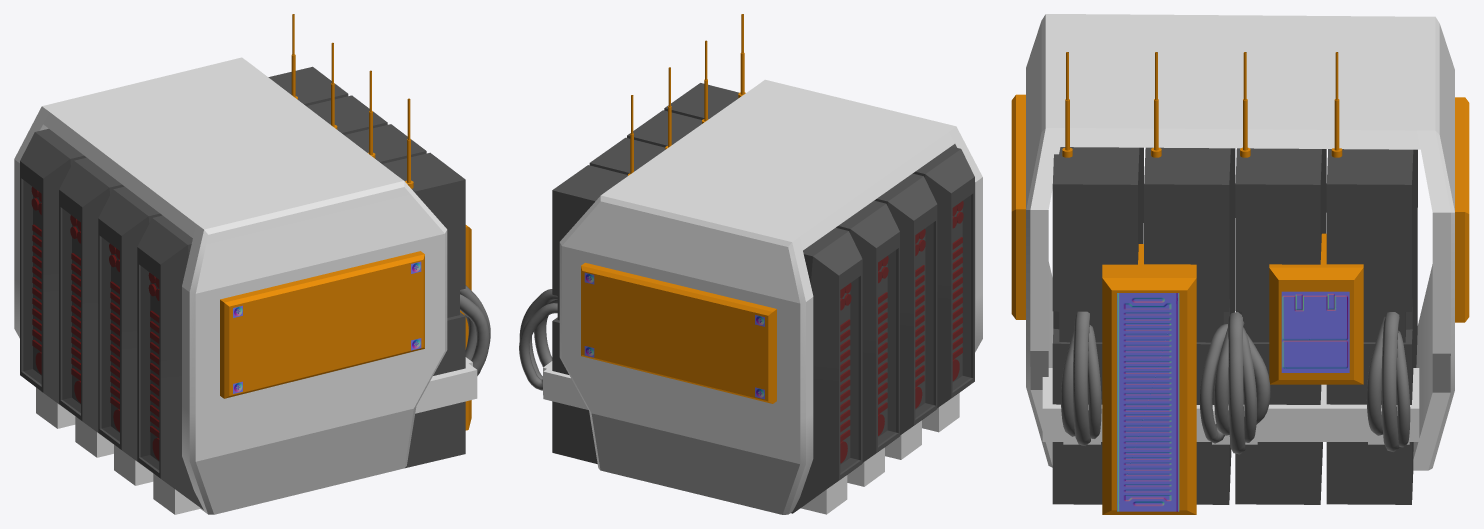
File: S_Serveurs.fbx
The picture shows the model from 3 angles, left to right: view 1: azimuth 30°, elevation 25°; view 2: azimuth 150°, elevation 25°; view 3: azimuth 270°, elevation 25°; orthographic projection. The views are drawn at different scales.
Parts seen in each view (by area): view 1: SERVEUR; view 2: SERVEUR; view 3: SERVEUR.
Part boxes in pixels (<box>): SERVEUR: <box>14,14,490,514</box>; SERVEUR: <box>519,14,982,514</box>; SERVEUR: <box>1011,14,1469,514</box>.
Size of what is drawn, in the model's own units: 482 by 491 by 483.
